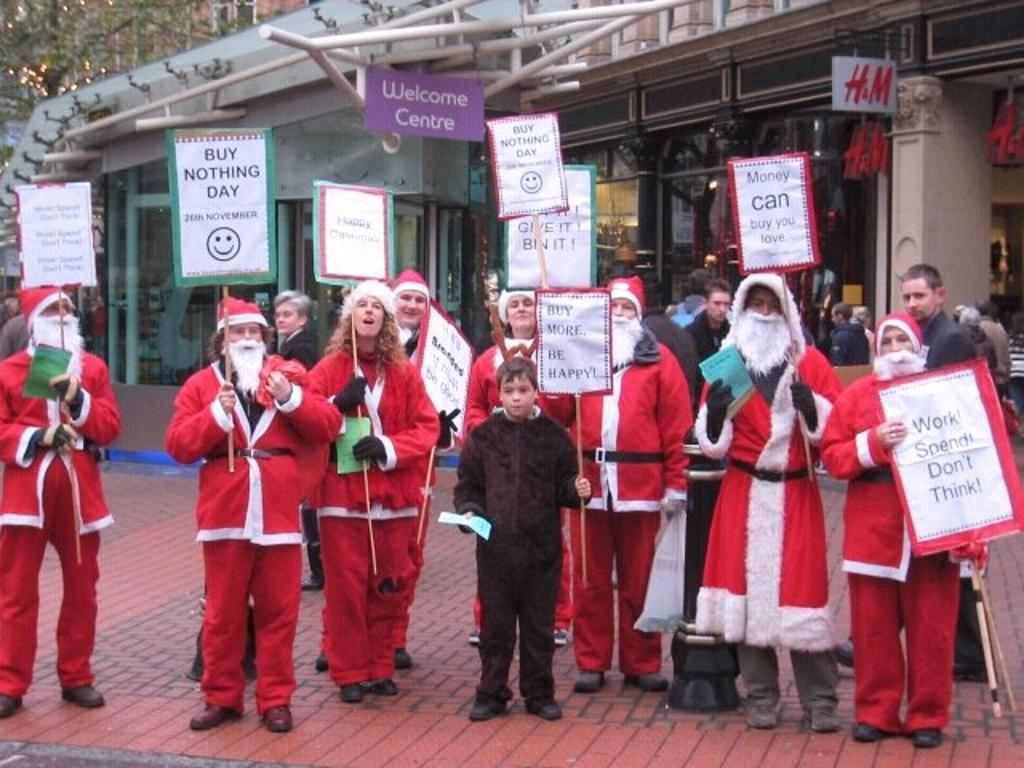face: (37, 296, 75, 340), (747, 289, 782, 335), (880, 326, 916, 369), (228, 317, 263, 358), (394, 285, 427, 326), (354, 294, 385, 337), (903, 282, 937, 321), (501, 376, 535, 415), (604, 295, 636, 334), (507, 295, 536, 328), (276, 307, 301, 335), (708, 295, 732, 321), (832, 311, 842, 326)
